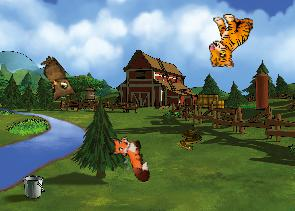fox: (105, 129, 152, 188)
owl: (29, 53, 80, 107)
tiger: (208, 13, 253, 67)
